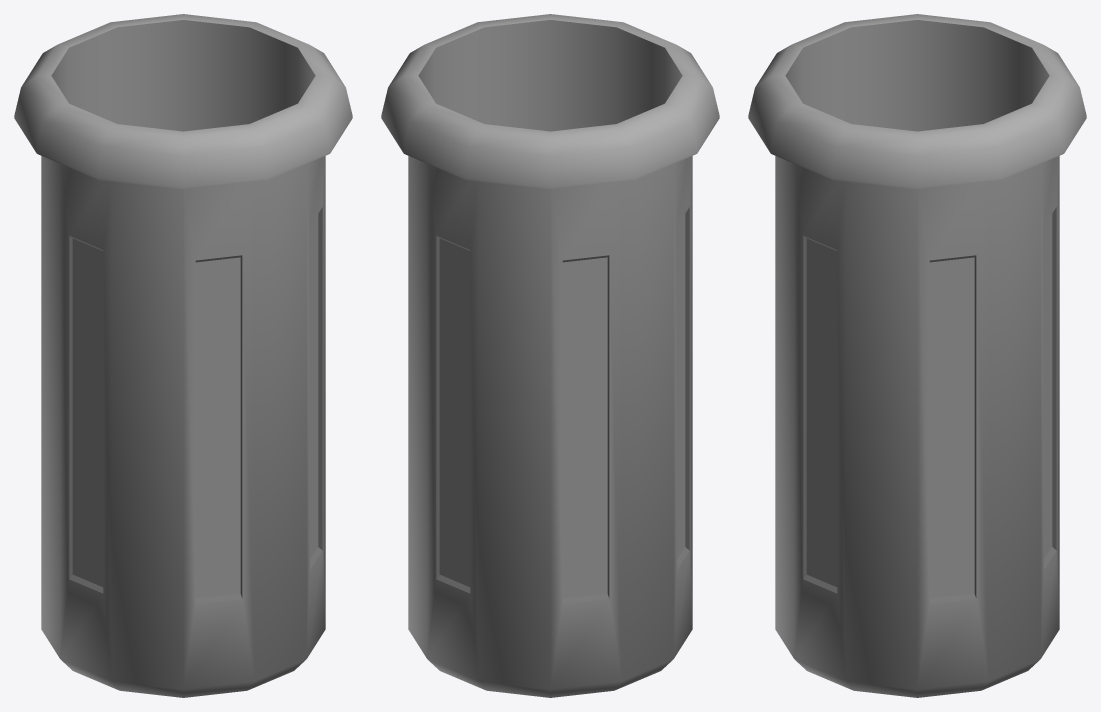
Rendered from Recycle Bin.fbx.
The picture shows the model from 3 angles, left to right: view 1: azimuth 30°, elevation 25°; view 2: azimuth 150°, elevation 25°; view 3: azimuth 270°, elevation 25°; orthographic projection.
Visible parts, largest first — view 1: Recycle Bin; view 2: Recycle Bin; view 3: Recycle Bin.
Part boxes in pixels (x1,y1,x2,y2): Recycle Bin: (14,14,352,697); Recycle Bin: (381,14,719,697); Recycle Bin: (748,14,1086,697).
Size of the model in its own units: 0.2742 by 0.5079 by 0.2742.
